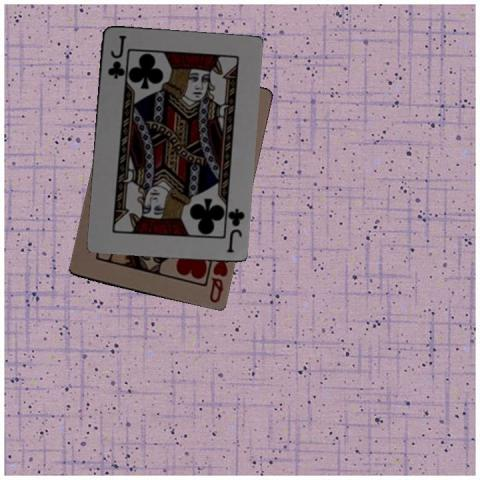Jc: (223, 205, 246, 254), (105, 31, 126, 80)
Qh: (207, 254, 230, 304)
